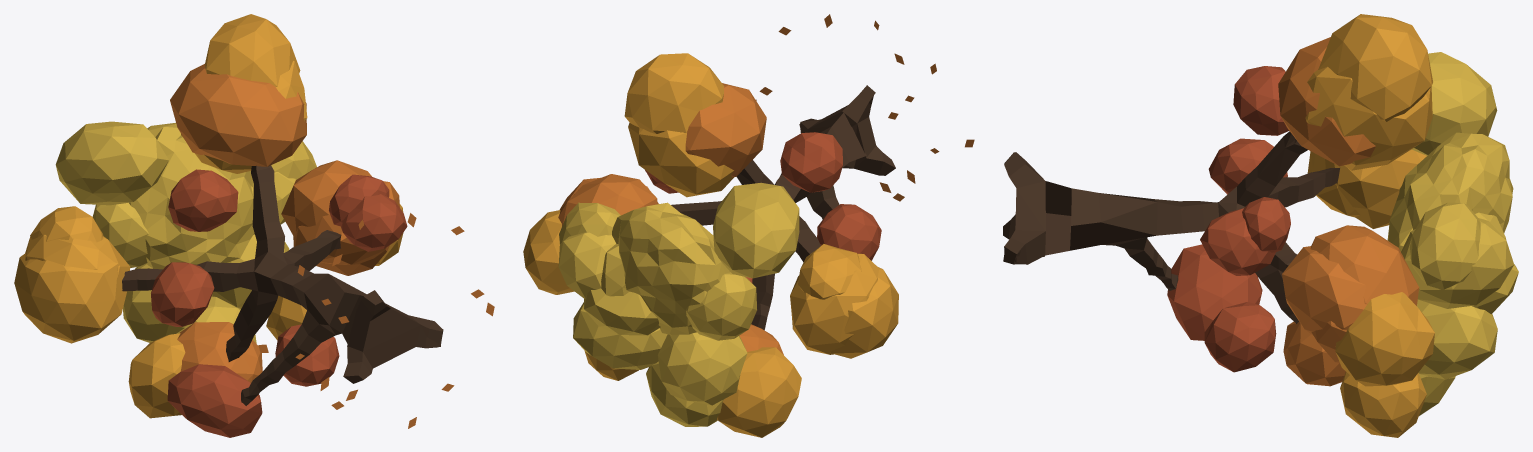
Rendered from TreeOakAutumnB3.fbx.
3 views of the same model, side by side, from view 1: azimuth 30°, elevation 25°; view 2: azimuth 150°, elevation 25°; view 3: azimuth 270°, elevation 25° (orthographic). The views are drawn at different scales.
Parts seen in each view (by area): view 1: M_Tree_Leaf_Gold, M_Tree_Leaf_Amber, M_Tree_Leaf_Orange, M_Tree_Bark.001, M_Tree_Leaf_Rust; view 2: M_Tree_Leaf_Gold, M_Tree_Leaf_Amber, M_Tree_Leaf_Orange, M_Tree_Bark.001, M_Tree_Leaf_Rust; view 3: M_Tree_Leaf_Amber, M_Tree_Leaf_Gold, M_Tree_Leaf_Rust, M_Tree_Bark.001, M_Tree_Leaf_Orange.
Part boxes in pixels (left/top/right/bottom): M_Tree_Leaf_Gold: left=55, top=121, right=316, bottom=343; M_Tree_Leaf_Amber: left=14, top=14, right=403, bottom=418; M_Tree_Leaf_Orange: left=170, top=64, right=494, bottom=428; M_Tree_Bark.001: left=122, top=165, right=443, bottom=405; M_Tree_Leaf_Rust: left=151, top=169, right=407, bottom=437; M_Tree_Leaf_Gold: left=558, top=182, right=799, bottom=426; M_Tree_Leaf_Amber: left=523, top=53, right=898, bottom=437; M_Tree_Leaf_Orange: left=558, top=14, right=974, bottom=354; M_Tree_Bark.001: left=671, top=85, right=895, bottom=330; M_Tree_Leaf_Rust: left=645, top=132, right=881, bottom=282; M_Tree_Leaf_Amber: left=1305, top=14, right=1434, bottom=437; M_Tree_Leaf_Gold: left=1387, top=52, right=1518, bottom=415; M_Tree_Leaf_Rust: left=1167, top=66, right=1290, bottom=372; M_Tree_Bark.001: left=1003, top=131, right=1339, bottom=323; M_Tree_Leaf_Orange: left=1278, top=37, right=1419, bottom=386.
Bounding box in the file's own units: 2933 × 2778 × 3139.
